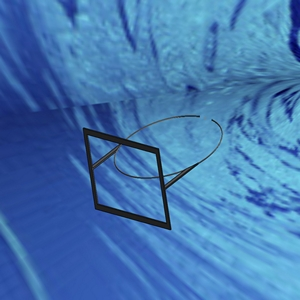circle: (81, 107, 224, 232)
